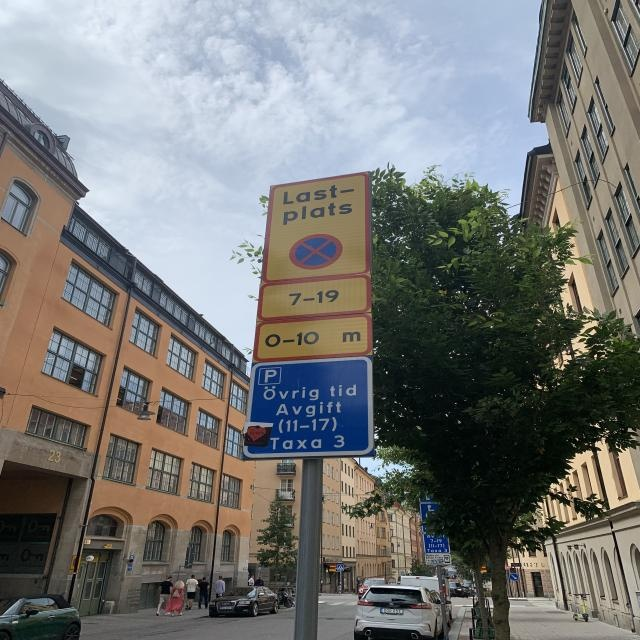lastplats: (260, 172, 373, 286)
